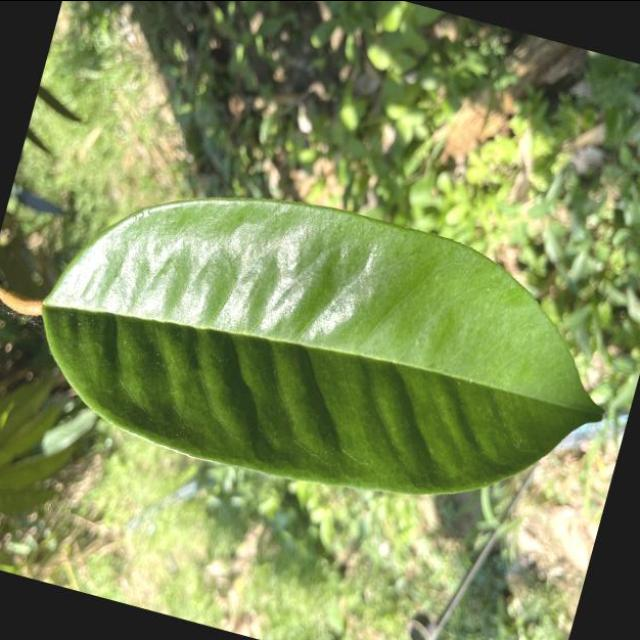No Disease: (5, 116, 640, 572)
